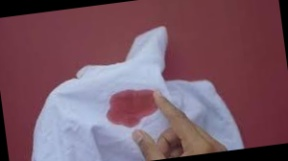blood: (104, 85, 157, 129)
